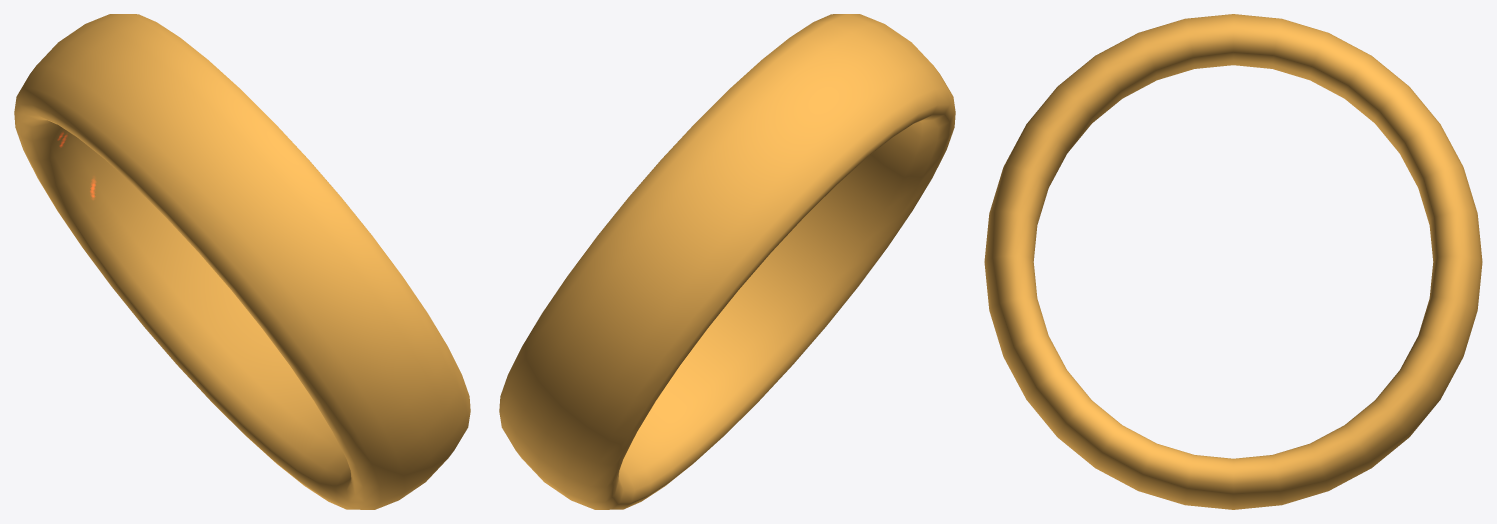
Rendered from ring_empty.glb.
The picture shows the model from 3 angles, left to right: view 1: azimuth 30°, elevation 25°; view 2: azimuth 150°, elevation 25°; view 3: azimuth 270°, elevation 25°; orthographic projection. The views are drawn at different scales.
Visible parts, largest first — view 1: tHE oNE rING_Material.001_0; view 2: tHE oNE rING_Material.001_0; view 3: tHE oNE rING_Material.001_0.
Part boxes in pixels (x1,y1,x2,y2): tHE oNE rING_Material.001_0: [14, 14, 470, 509]; tHE oNE rING_Material.001_0: [499, 14, 955, 509]; tHE oNE rING_Material.001_0: [984, 14, 1482, 509].
Bounding box in the file's own units: 3.48 × 4.78 × 5.14.
